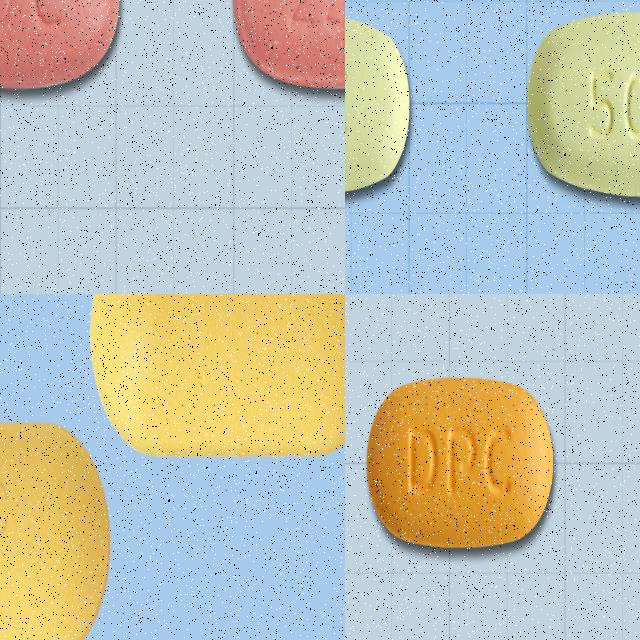Clafacin: (525, 5, 640, 205), (345, 5, 414, 202)
Clarithromycin Tab- Dongkwang: (363, 373, 558, 555)
Clycin: (90, 294, 345, 454), (0, 419, 110, 640)
Dongkoo Levofloxacin Hydrate Tab-250mg: (0, 0, 121, 91), (232, 0, 345, 90)
